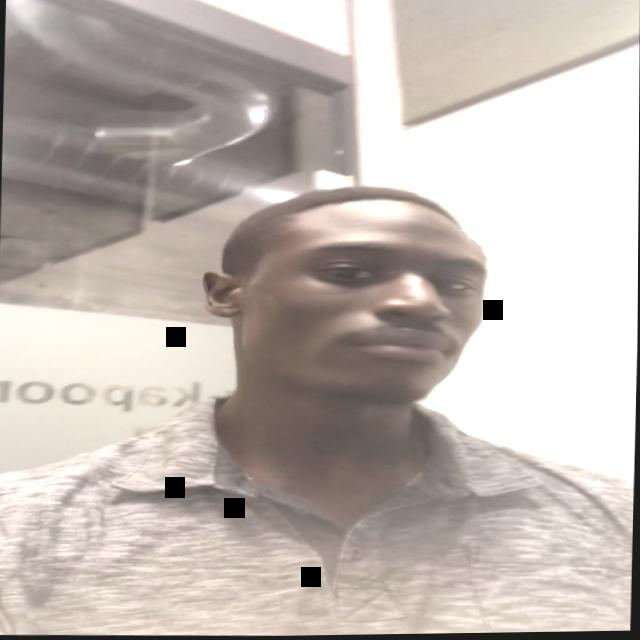NO-Mask: (225, 213, 492, 408)
